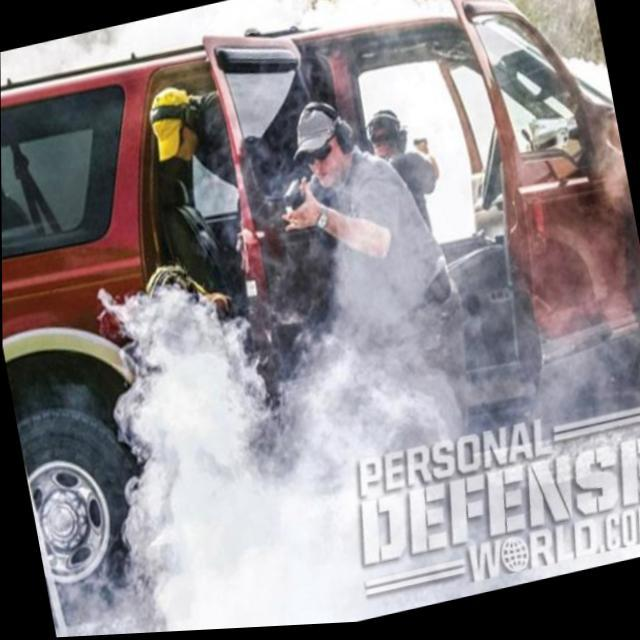weapon: (278, 180, 312, 223), (412, 137, 432, 156)
